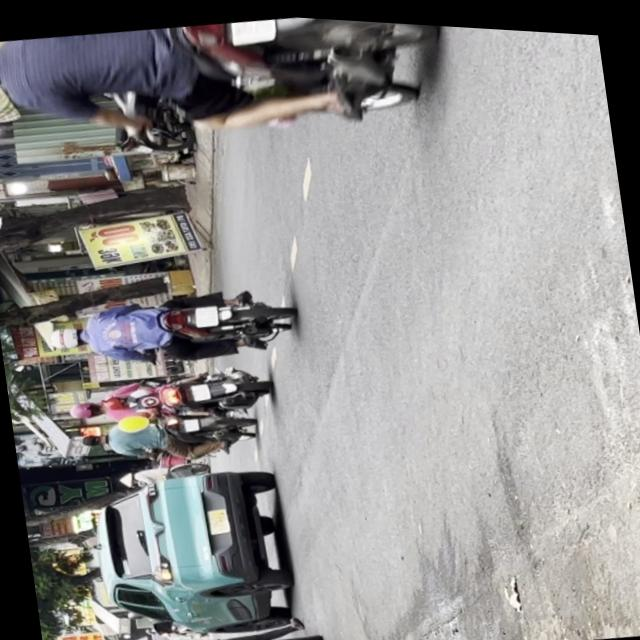helmet: (44, 322, 84, 351), (67, 396, 103, 420)
licenseplate: (0, 0, 446, 181), (40, 269, 299, 384), (61, 350, 273, 435)
nohelmet: (227, 14, 275, 42), (192, 302, 218, 326), (190, 380, 210, 400)
